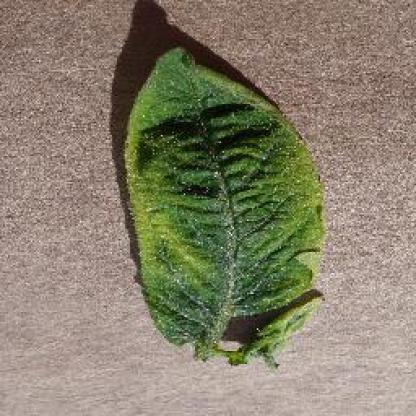bad leaf: (140, 56, 327, 347)
